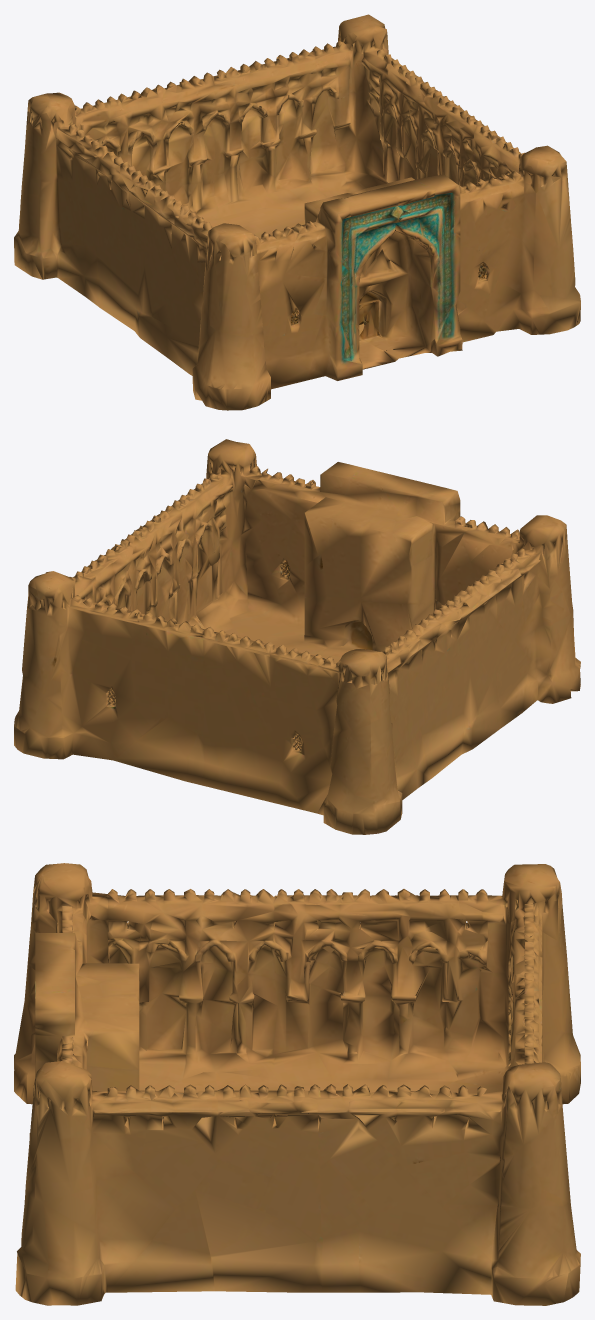
Rendered from Caravanserai.glb.
The picture shows the model from 3 angles, top to bottom: view 1: azimuth 30°, elevation 25°; view 2: azimuth 150°, elevation 25°; view 3: azimuth 270°, elevation 25°; orthographic projection. The views are drawn at different scales.
Size of the model in its own units: 1.9 by 0.7988 by 1.9.
1 material, 1 textured.
